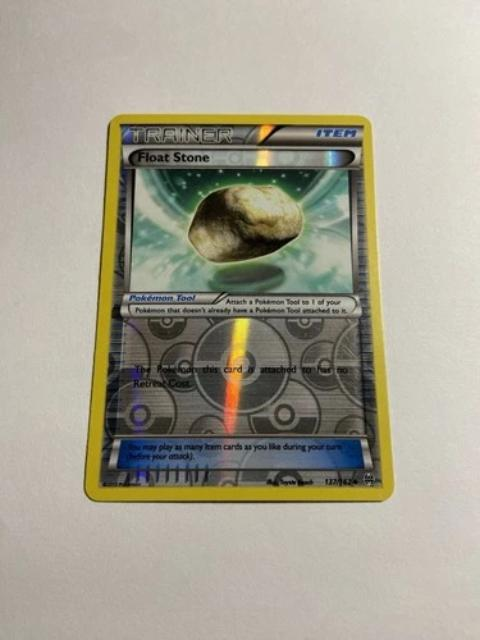Card: (78, 106, 401, 508)
Name: (124, 138, 216, 163)
